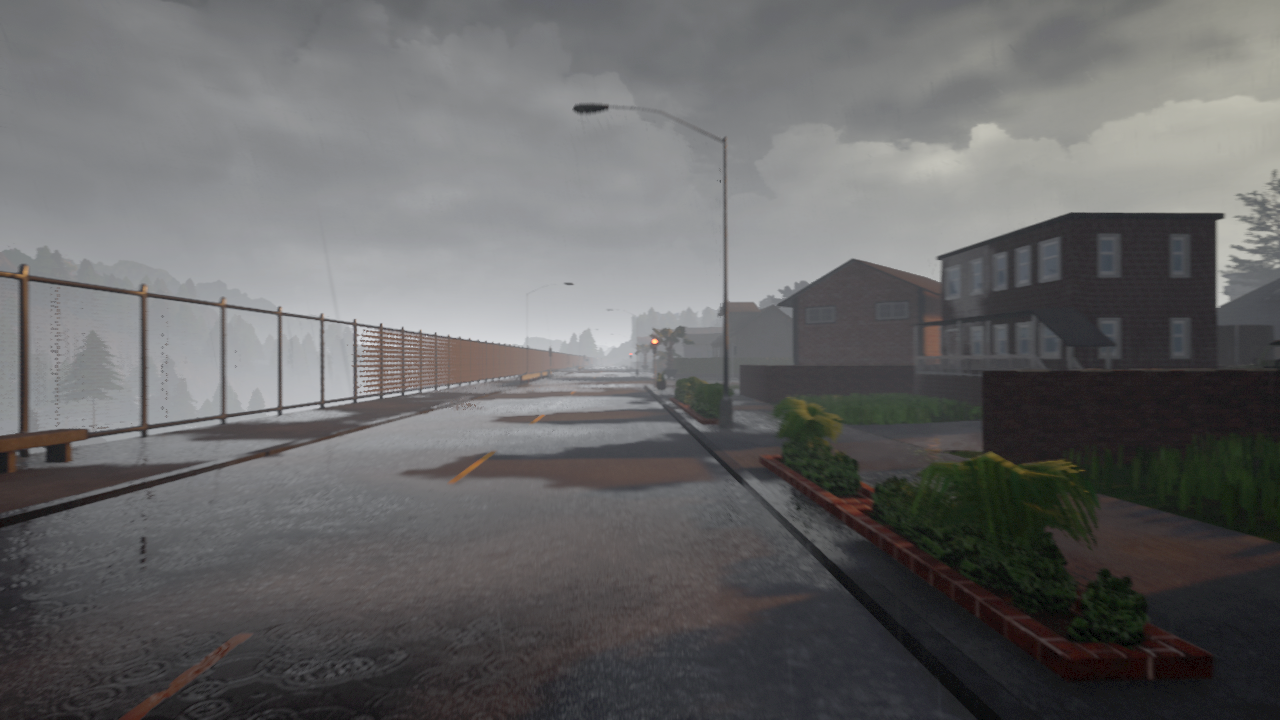red: (650, 338, 658, 354)
